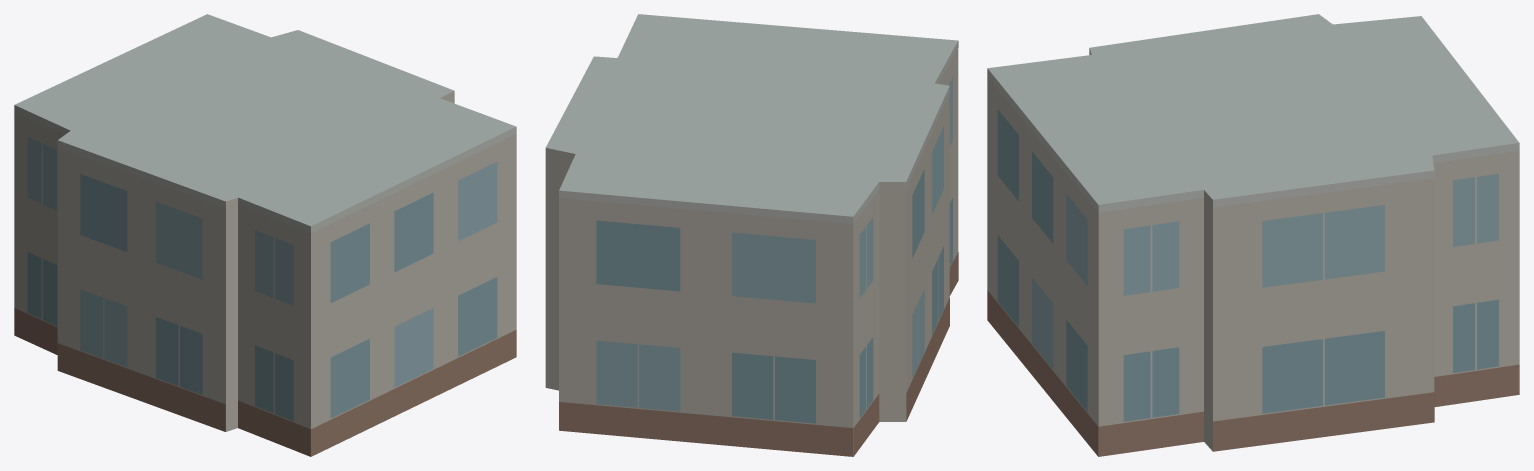
File: survey-upis-32629853.glb
The picture shows the model from 3 angles, left to right: view 1: azimuth 30°, elevation 25°; view 2: azimuth 150°, elevation 25°; view 3: azimuth 270°, elevation 25°; orthographic projection. The views are drawn at different scales.
Visible parts, largest first — view 1: survey-upis-32629853.tmp; view 2: survey-upis-32629853.tmp; view 3: survey-upis-32629853.tmp.
Part boxes in pixels (left/top/right/bottom): survey-upis-32629853.tmp: left=14, top=14, right=516, bottom=456; survey-upis-32629853.tmp: left=545, top=14, right=958, bottom=456; survey-upis-32629853.tmp: left=987, top=14, right=1519, bottom=456.
Size of the model in its own units: 12.85 by 7.9 by 15.13.
